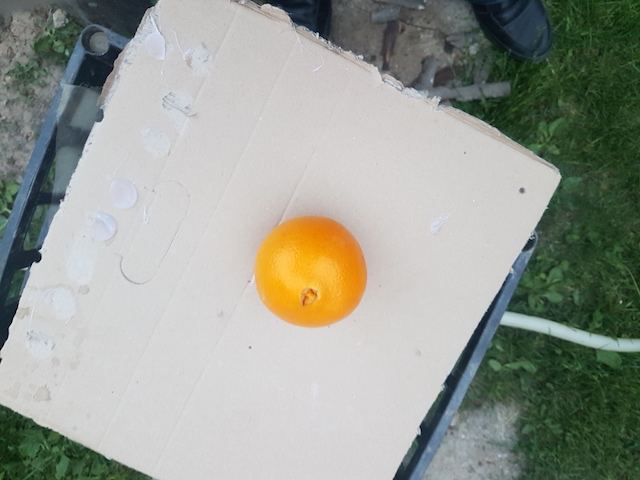orange: (257, 214, 370, 329)
